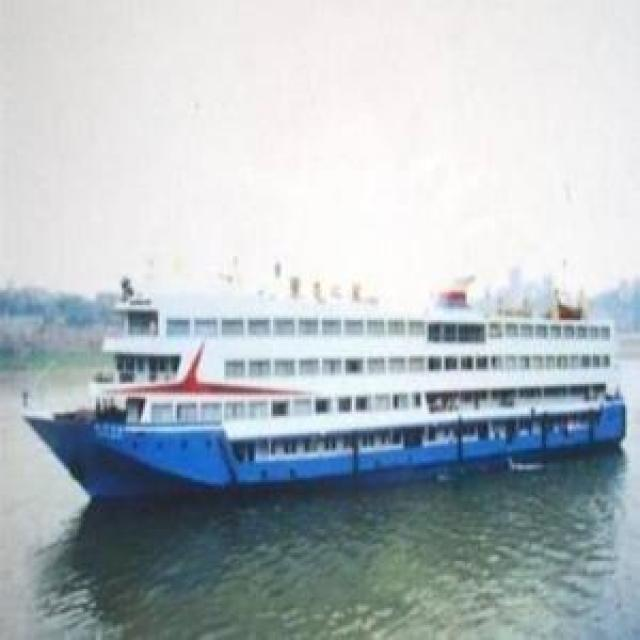passenger ship: (27, 254, 621, 496)
